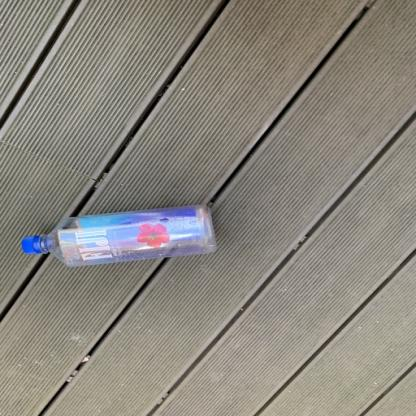trash: (20, 202, 221, 274)
